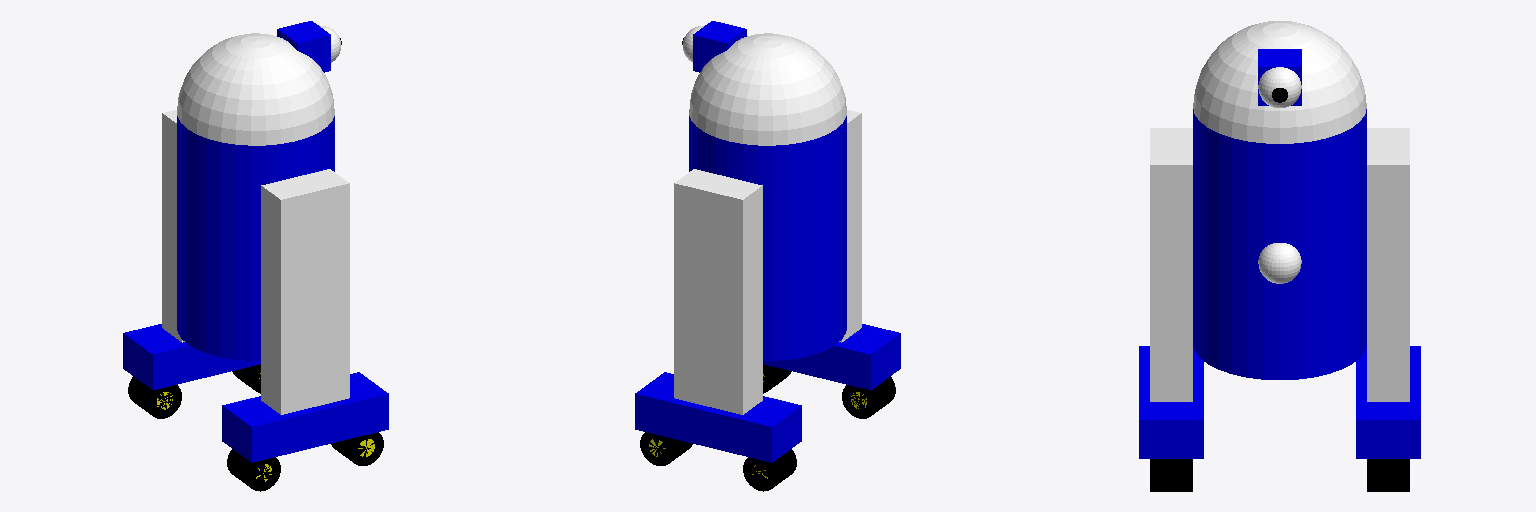
robot.urdf — chitti_vtwo:
<?xml version="1.0" ?>
<!-- =================================================================================== -->
<!-- |    This document was autogenerated by xacro from robot_vtwo.xacro               | -->
<!-- |    EDITING THIS FILE BY HAND IS NOT RECOMMENDED                                 | -->
<!-- =================================================================================== -->
<robot name="chitti_vtwo">
  <material name="blue">
    <color rgba="0 0 1 1"/>
  </material>
  <material name="white">
    <color rgba="1 1 1 1"/>
  </material>
  <material name="black">
    <color rgba="0 0 0 1"/>
  </material>
  <material name="black_2">
    <color rgba="0 0 0 0.9"/>
  </material>
  <material name="yellow">
    <color rgba="1 1 0 1"/>
  </material>
  <gazebo>
    <plugin filename="gz-sim-diff-drive-system" name="gz::sim::systems::DiffDrive">
      <left_joint>wheel3_joint</left_joint>
      <left_joint>wheel4_joint</left_joint>
      <right_joint>wheel1_joint</right_joint>
      <right_joint>wheel2_joint</right_joint>
      <wheel_separation>0.5</wheel_separation>
      <wheel_radius>0.05</wheel_radius>
      <topic>/police/cmd_vel</topic>
    </plugin>
  </gazebo>
  <gazebo reference="pols_camera">
    <sensor name="camera" type="camera">
      <pose>0 0 0 0 0 0</pose>
      <always_on>true</always_on>
      <update_rate>30.0</update_rate>
      <visualize>true</visualize>
      <topic>/police/camera/image</topic>
      <camera>
        <horizontal_fov>1.089</horizontal_fov>
        <image>
          <width>640</width>
          <height>480</height>
          <format>R8G8B8</format>
        </image>
        <clip>
          <near>0.05</near>
          <far>8.0</far>
        </clip>
      </camera>
    </sensor>
  </gazebo>
  <link name="base_link">
    <inertial>
      <mass value="1.0"/>
      <origin rpy="0 0 0" xyz="0 0 0"/>
      <inertia ixx="0.001" ixy="0" ixz="0" iyy="0.001" iyz="0" izz="0.001"/>
    </inertial>
    <visual>
      <geometry>
        <cylinder length="0.6" radius="0.2"/>
      </geometry>
      <material name="blue"/>
    </visual>
    <collision>
      <geometry>
        <cylinder length="0.6" radius="0.2"/>
      </geometry>
    </collision>
  </link>
  <link name="pols_camera">
    <inertial>
      <mass value="0.05"/>
      <origin rpy="0 0 0" xyz="0 0 0"/>
      <inertia ixx="5e-05" ixy="0" ixz="0" iyy="5e-05" iyz="0" izz="5e-05"/>
    </inertial>
    <visual>
      <geometry>
        <sphere radius="0.05"/>
      </geometry>
      <material name="white"/>
    </visual>
    <collision>
      <geometry>
        <sphere radius="0.05"/>
      </geometry>
    </collision>
  </link>
  <joint name="ceye_joint" type="fixed">
    <parent link="base_link"/>
    <child link="pols_camera"/>
    <origin rpy="0 0 0" xyz="0.2 0 0"/>
  </joint>
  <link name="leg_l">
    <inertial>
      <mass value="1.0"/>
      <origin rpy="0 0 0" xyz="0 0 0"/>
      <inertia ixx="0.001" ixy="0" ixz="0" iyy="0.001" iyz="0" izz="0.001"/>
    </inertial>
    <visual>
      <geometry>
        <box size="0.6 0.1 0.2"/>
      </geometry>
      <material name="white"/>
    </visual>
    <collision>
      <geometry>
        <box size="0.6 0.1 0.2"/>
      </geometry>
    </collision>
  </link>
  <joint name="leg_joint_l" type="fixed">
    <parent link="base_link"/>
    <child link="leg_l"/>
    <origin rpy="0 1.570796326795 0" xyz="0 -0.25 -0.1"/>
  </joint>
  <link name="pad_l">
    <inertial>
      <mass value="5.0"/>
      <origin rpy="0 0 0" xyz="0 0 0"/>
      <inertia ixx="0.005" ixy="0" ixz="0" iyy="0.005" iyz="0" izz="0.005"/>
    </inertial>
    <visual>
      <geometry>
        <box size="0.4 0.15 0.1"/>
      </geometry>
      <material name="blue"/>
    </visual>
    <collision>
      <geometry>
        <box size="0.4 0.15 0.1"/>
      </geometry>
    </collision>
  </link>
  <joint name="pad_joint_l" type="fixed">
    <parent link="leg_l"/>
    <child link="pad_l"/>
    <origin rpy="0 -1.570796326795 0" xyz="0.35 0 0"/>
  </joint>
  <link name="leg_r">
    <inertial>
      <mass value="1.0"/>
      <origin rpy="0 0 0" xyz="0 0 0"/>
      <inertia ixx="0.001" ixy="0" ixz="0" iyy="0.001" iyz="0" izz="0.001"/>
    </inertial>
    <visual>
      <geometry>
        <box size="0.6 0.1 0.2"/>
      </geometry>
      <material name="white"/>
    </visual>
    <collision>
      <geometry>
        <box size="0.6 0.1 0.2"/>
      </geometry>
    </collision>
  </link>
  <joint name="leg_joint_r" type="fixed">
    <parent link="base_link"/>
    <child link="leg_r"/>
    <origin rpy="0 1.570796326795 0" xyz="0 0.25 -0.1"/>
  </joint>
  <link name="pad_r">
    <inertial>
      <mass value="5.0"/>
      <origin rpy="0 0 0" xyz="0 0 0"/>
      <inertia ixx="0.005" ixy="0" ixz="0" iyy="0.005" iyz="0" izz="0.005"/>
    </inertial>
    <visual>
      <geometry>
        <box size="0.4 0.15 0.1"/>
      </geometry>
      <material name="blue"/>
    </visual>
    <collision>
      <geometry>
        <box size="0.4 0.15 0.1"/>
      </geometry>
    </collision>
  </link>
  <joint name="pad_joint_r" type="fixed">
    <parent link="leg_r"/>
    <child link="pad_r"/>
    <origin rpy="0 -1.570796326795 0" xyz="0.35 0 0"/>
  </joint>
  <link name="wheel1">
    <inertial>
      <mass value="3.0"/>
      <origin rpy="0 0 0" xyz="0 0 0"/>
      <inertia ixx="0.003" ixy="0" ixz="0" iyy="0.003" iyz="0" izz="0.003"/>
    </inertial>
    <visual>
      <geometry>
        <cylinder length="0.1" radius="0.05"/>
      </geometry>
      <material name="black_2"/>
    </visual>
    <collision>
      <geometry>
        <cylinder length="0.1" radius="0.05"/>
      </geometry>
    </collision>
  </link>
  <joint name="wheel1_joint" type="continuous">
    <parent link="pad_l"/>
    <child link="wheel1"/>
    <origin rpy="1.570796326795 0 0" xyz="0.15 0 -0.1"/>
    <axis xyz="0 0 -1"/>
  </joint>
  <link name="iwheel1">
    <inertial>
      <mass value="2.0"/>
      <origin rpy="0 0 0" xyz="0 0 0"/>
      <inertia ixx="0.002" ixy="0" ixz="0" iyy="0.002" iyz="0" izz="0.002"/>
    </inertial>
    <visual>
      <geometry>
        <cylinder length="0.1" radius="0.025"/>
      </geometry>
      <material name="yellow"/>
    </visual>
    <collision>
      <geometry>
        <cylinder length="0.1" radius="0.025"/>
      </geometry>
    </collision>
  </link>
  <joint name="iwheel1_joint" type="fixed">
    <parent link="wheel1"/>
    <child link="iwheel1"/>
    <origin rpy="0 0 0" xyz="0 0 0"/>
  </joint>
  <link name="wheel2">
    <inertial>
      <mass value="3.0"/>
      <origin rpy="0 0 0" xyz="0 0 0"/>
      <inertia ixx="0.003" ixy="0" ixz="0" iyy="0.003" iyz="0" izz="0.003"/>
    </inertial>
    <visual>
      <geometry>
        <cylinder length="0.1" radius="0.05"/>
      </geometry>
      <material name="black_2"/>
    </visual>
    <collision>
      <geometry>
        <cylinder length="0.1" radius="0.05"/>
      </geometry>
    </collision>
  </link>
  <joint name="wheel2_joint" type="continuous">
    <parent link="pad_l"/>
    <child link="wheel2"/>
    <origin rpy="1.570796326795 0 0" xyz="-0.15 0 -0.1"/>
    <axis xyz="0 0 -1"/>
  </joint>
  <link name="iwheel2">
    <inertial>
      <mass value="2.0"/>
      <origin rpy="0 0 0" xyz="0 0 0"/>
      <inertia ixx="0.002" ixy="0" ixz="0" iyy="0.002" iyz="0" izz="0.002"/>
    </inertial>
    <visual>
      <geometry>
        <cylinder length="0.1" radius="0.025"/>
      </geometry>
      <material name="yellow"/>
    </visual>
    <collision>
      <geometry>
        <cylinder length="0.1" radius="0.025"/>
      </geometry>
    </collision>
  </link>
  <joint name="iwheel2_joint" type="fixed">
    <parent link="wheel2"/>
    <child link="iwheel2"/>
    <origin rpy="0 0 0" xyz="0 0 0"/>
  </joint>
  <link name="wheel3">
    <inertial>
      <mass value="3.0"/>
      <origin rpy="0 0 0" xyz="0 0 0"/>
      <inertia ixx="0.003" ixy="0" ixz="0" iyy="0.003" iyz="0" izz="0.003"/>
    </inertial>
    <visual>
      <geometry>
        <cylinder length="0.1" radius="0.05"/>
      </geometry>
      <material name="black_2"/>
    </visual>
    <collision>
      <geometry>
        <cylinder length="0.1" radius="0.05"/>
      </geometry>
    </collision>
  </link>
  <joint name="wheel3_joint" type="continuous">
    <parent link="pad_r"/>
    <child link="wheel3"/>
    <origin rpy="1.570796326795 0 0" xyz="-0.15 0 -0.1"/>
    <axis xyz="0 0 -1"/>
  </joint>
  <link name="iwheel3">
    <inertial>
      <mass value="2.0"/>
      <origin rpy="0 0 0" xyz="0 0 0"/>
      <inertia ixx="0.002" ixy="0" ixz="0" iyy="0.002" iyz="0" izz="0.002"/>
    </inertial>
    <visual>
      <geometry>
        <cylinder length="0.1" radius="0.025"/>
      </geometry>
      <material name="yellow"/>
    </visual>
    <collision>
      <geometry>
        <cylinder length="0.1" radius="0.025"/>
      </geometry>
    </collision>
  </link>
  <joint name="iwheel3_joint" type="fixed">
    <parent link="wheel3"/>
    <child link="iwheel3"/>
    <origin rpy="0 0 0" xyz="0 0 0"/>
  </joint>
  <link name="wheel4">
    <inertial>
      <mass value="3.0"/>
      <origin rpy="0 0 0" xyz="0 0 0"/>
      <inertia ixx="0.003" ixy="0" ixz="0" iyy="0.003" iyz="0" izz="0.003"/>
    </inertial>
    <visual>
      <geometry>
        <cylinder length="0.1" radius="0.05"/>
      </geometry>
      <material name="black_2"/>
    </visual>
    <collision>
      <geometry>
        <cylinder length="0.1" radius="0.05"/>
      </geometry>
    </collision>
  </link>
  <joint name="wheel4_joint" type="continuous">
    <parent link="pad_r"/>
    <child link="wheel4"/>
    <origin rpy="1.570796326795 0 0" xyz="0.15 0 -0.1"/>
    <axis xyz="0 0 -1"/>
  </joint>
  <link name="iwheel4">
    <inertial>
      <mass value="2.0"/>
      <origin rpy="0 0 0" xyz="0 0 0"/>
      <inertia ixx="0.002" ixy="0" ixz="0" iyy="0.002" iyz="0" izz="0.002"/>
    </inertial>
    <visual>
      <geometry>
        <cylinder length="0.1" radius="0.025"/>
      </geometry>
      <material name="yellow"/>
    </visual>
    <collision>
      <geometry>
        <cylinder length="0.1" radius="0.025"/>
      </geometry>
    </collision>
  </link>
  <joint name="iwheel4_joint" type="fixed">
    <parent link="wheel4"/>
    <child link="iwheel4"/>
    <origin rpy="0 0 0" xyz="0 0 0"/>
  </joint>
  <link name="head">
    <inertial>
      <mass value="0.5"/>
      <origin rpy="0 0 0" xyz="0 0 0"/>
      <inertia ixx="0.0005" ixy="0" ixz="0" iyy="0.0005" iyz="0" izz="0.0005"/>
    </inertial>
    <visual>
      <geometry>
        <sphere radius="0.2"/>
      </geometry>
      <material name="white"/>
    </visual>
    <collision>
      <geometry>
        <sphere radius="0.2"/>
      </geometry>
    </collision>
  </link>
  <joint name="head_joint1" type="continuous">
    <parent link="base_link"/>
    <child link="head"/>
    <origin rpy="0 0 0" xyz="0 0 0.3"/>
    <axis xyz="0 0 1"/>
  </joint>
  <link name="eye_socket">
    <inertial>
      <mass value="0.1"/>
      <origin rpy="0 0 0" xyz="0 0 0"/>
      <inertia ixx="0.0001" ixy="0" ixz="0" iyy="0.0001" iyz="0" izz="0.0001"/>
    </inertial>
    <visual>
      <geometry>
        <box size="0.1 0.1 0.1"/>
      </geometry>
      <material name="blue"/>
    </visual>
    <collision>
      <geometry>
        <box size="0.1 0.1 0.1"/>
      </geometry>
    </collision>
  </link>
  <joint name="eye_joint" type="fixed">
    <parent link="head"/>
    <child link="eye_socket"/>
    <origin rpy="0 0 0" xyz="0.1414 0 0.1414"/>
  </joint>
  <link name="eyeball">
    <inertial>
      <mass value="0.05"/>
      <origin rpy="0 0 0" xyz="0 0 0"/>
      <inertia ixx="5e-05" ixy="0" ixz="0" iyy="5e-05" iyz="0" izz="5e-05"/>
    </inertial>
    <visual>
      <geometry>
        <sphere radius="0.05"/>
      </geometry>
      <material name="white"/>
    </visual>
    <collision>
      <geometry>
        <sphere radius="0.05"/>
      </geometry>
    </collision>
  </link>
  <joint name="ieye_joint" type="revolute">
    <parent link="eye_socket"/>
    <child link="eyeball"/>
    <origin rpy="0 0 0" xyz="0.05 0 0"/>
    <axis xyz="0 1 0"/>
    <limit effort="100.0" lower="-1.570796326795" upper="1.570796326795" velocity="3.14"/>
  </joint>
  <link name="pupil">
    <inertial>
      <mass value="0.01"/>
      <origin rpy="0 0 0" xyz="0 0 0"/>
      <inertia ixx="1e-05" ixy="0" ixz="0" iyy="1e-05" iyz="0" izz="1e-05"/>
    </inertial>
    <visual>
      <geometry>
        <sphere radius="0.025"/>
      </geometry>
      <material name="black"/>
    </visual>
    <collision>
      <geometry>
        <sphere radius="0.025"/>
      </geometry>
    </collision>
  </link>
  <joint name="pupil_joint" type="fixed">
    <parent link="eyeball"/>
    <child link="pupil"/>
    <origin rpy="0 0 0" xyz="0.03 0 0"/>
  </joint>
</robot>

--- Render facts (derived) ---
Views: 3 orthographic renders of the robot side by side, from view 1: azimuth 30°, elevation 25°; view 2: azimuth 150°, elevation 25°; view 3: azimuth 270°, elevation 25°.
Robot: chitti_vtwo — 18 links, 17 joints (1 revolute, 5 continuous, 11 fixed); root link base_link; default pose: every joint at zero.
Visible links, largest first — view 1: base_link, leg_l, head, pad_l, pad_r, leg_r, eye_socket, wheel2, wheel3, wheel1; view 2: base_link, leg_r, head, pad_r, pad_l, leg_l, eye_socket, wheel3, wheel2, wheel4; view 3: base_link, head, leg_l, leg_r, pad_l, pad_r, wheel1, wheel4, pols_camera, eyeball, eye_socket.
Boxes of the visible links, <box> form: base_link: <box>177,116,334,360</box>; leg_l: <box>261,169,349,414</box>; head: <box>177,33,334,145</box>; pad_l: <box>222,372,388,462</box>; pad_r: <box>123,324,260,389</box>; leg_r: <box>162,110,184,342</box>; eye_socket: <box>277,21,330,72</box>; wheel2: <box>227,449,280,491</box>; wheel3: <box>128,376,181,418</box>; wheel1: <box>331,432,383,465</box>; base_link: <box>689,116,846,360</box>; leg_r: <box>674,169,762,414</box>; head: <box>689,33,846,145</box>; pad_r: <box>635,372,801,462</box>; pad_l: <box>763,324,900,389</box>; leg_l: <box>839,110,861,342</box>; eye_socket: <box>693,21,746,72</box>; wheel3: <box>743,449,796,491</box>; wheel2: <box>842,376,895,418</box>; wheel4: <box>640,432,692,465</box>; base_link: <box>1193,109,1366,379</box>; head: <box>1193,21,1366,143</box>; leg_l: <box>1150,128,1192,401</box>; leg_r: <box>1367,128,1409,401</box>; pad_l: <box>1139,346,1203,458</box>; pad_r: <box>1356,346,1420,458</box>; wheel1: <box>1150,459,1192,491</box>; wheel4: <box>1367,459,1409,491</box>; pols_camera: <box>1258,243,1301,283</box>; eyeball: <box>1258,67,1301,107</box>; eye_socket: <box>1258,49,1301,105</box>.
Size in the robot's own frame: 0.45 by 0.65 by 1.1 metres.
Geometry: primitives only (box / cylinder / sphere), no mesh files.
